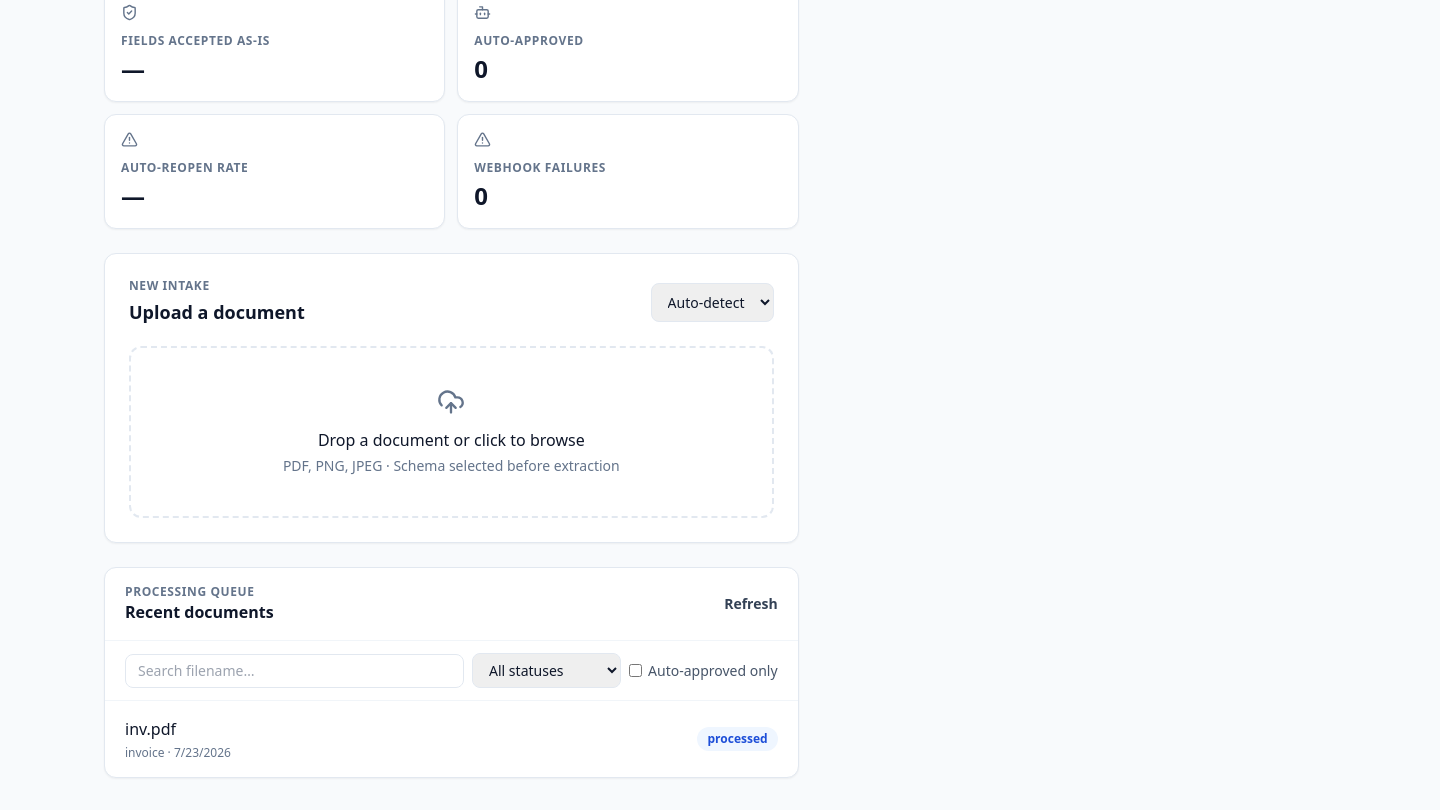
Test: approve closes the review panel › turns the queue pill green AND resets the panel to the placeholder
(page scrolled)
Note: Open the processed document from the queue.
Click the text "inv.pdf": (150, 729) [125,718,176,740]
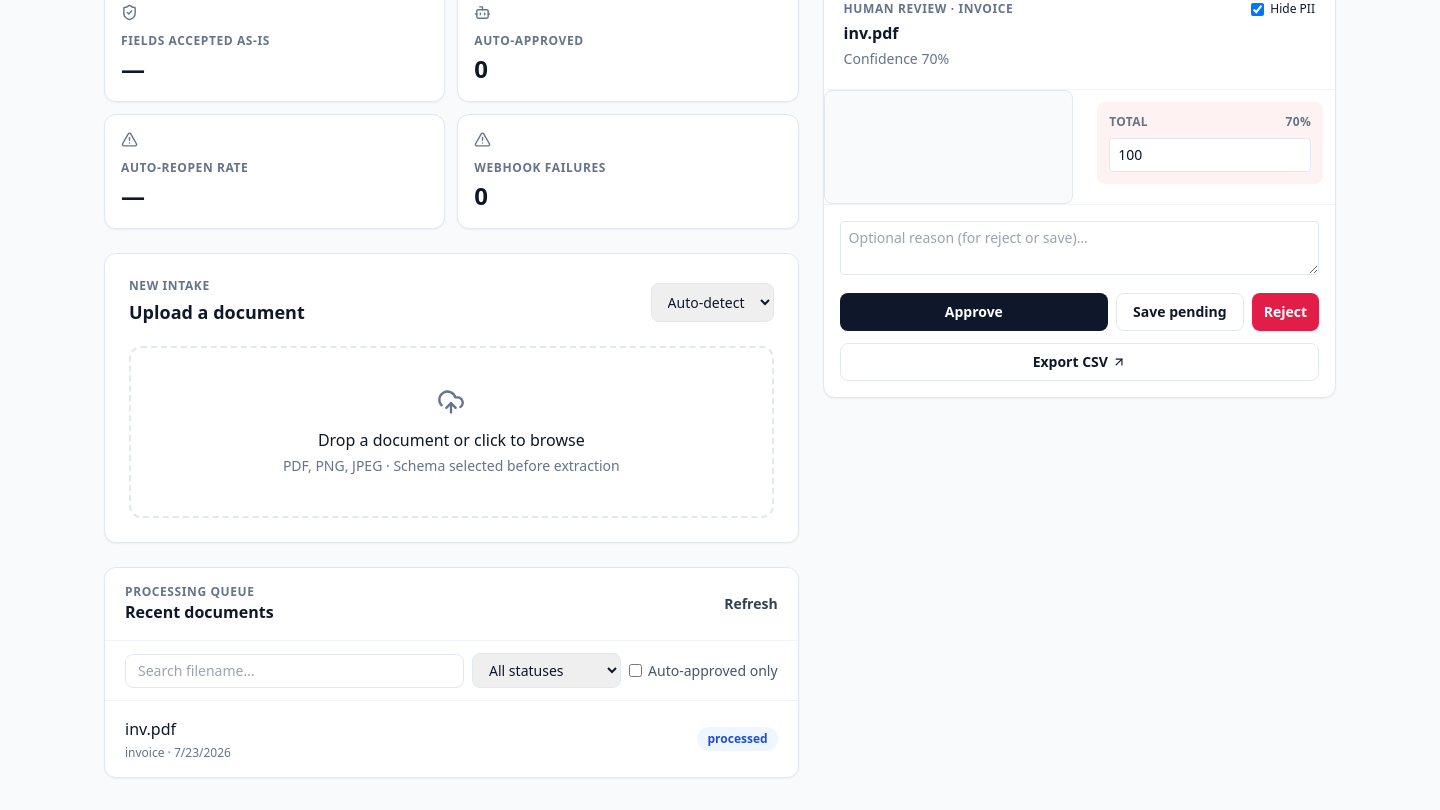
Expected: the field showing "100" is shown, [1109,138,1311,172]
Note: Approve it.
Click the button "Approve": (974, 312) [840,293,1108,331]
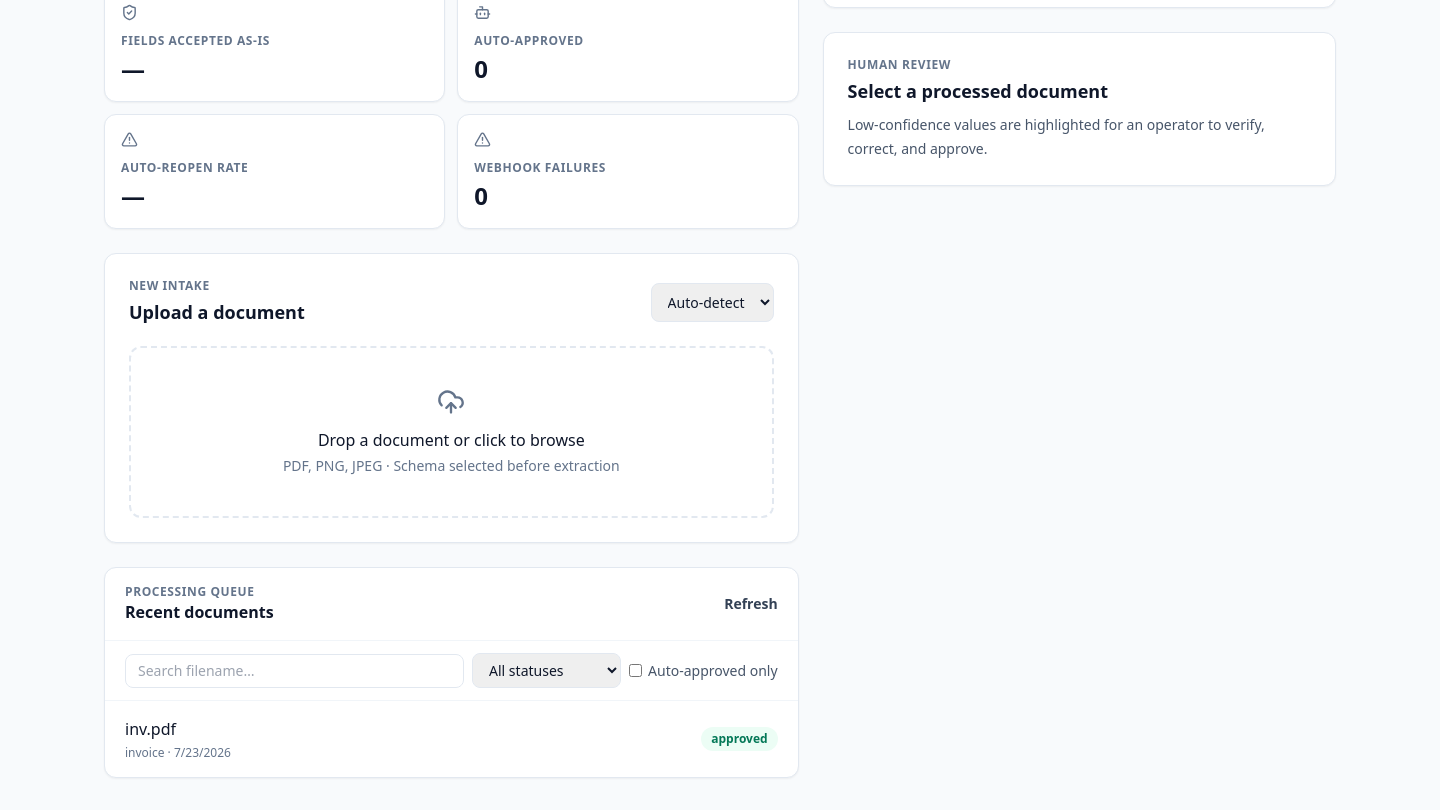
Expected: the field showing "100" is not shown
Expected: the heading "Select a processed document" is shown, [848,79,1108,103]
